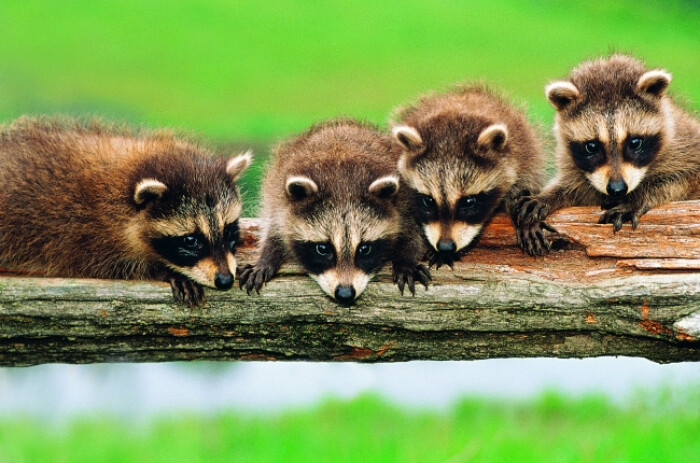raccoon: (1, 108, 246, 320), (235, 111, 437, 317), (382, 76, 562, 273), (515, 44, 700, 232)
